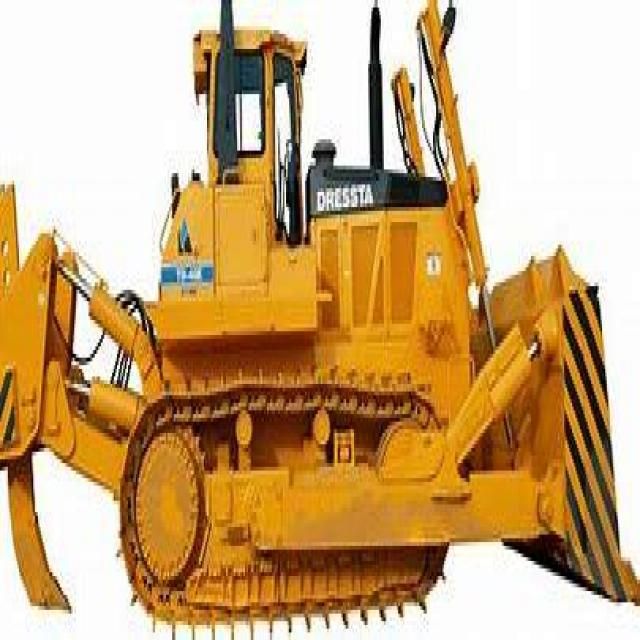Bulldozer: (1, 8, 638, 636)
